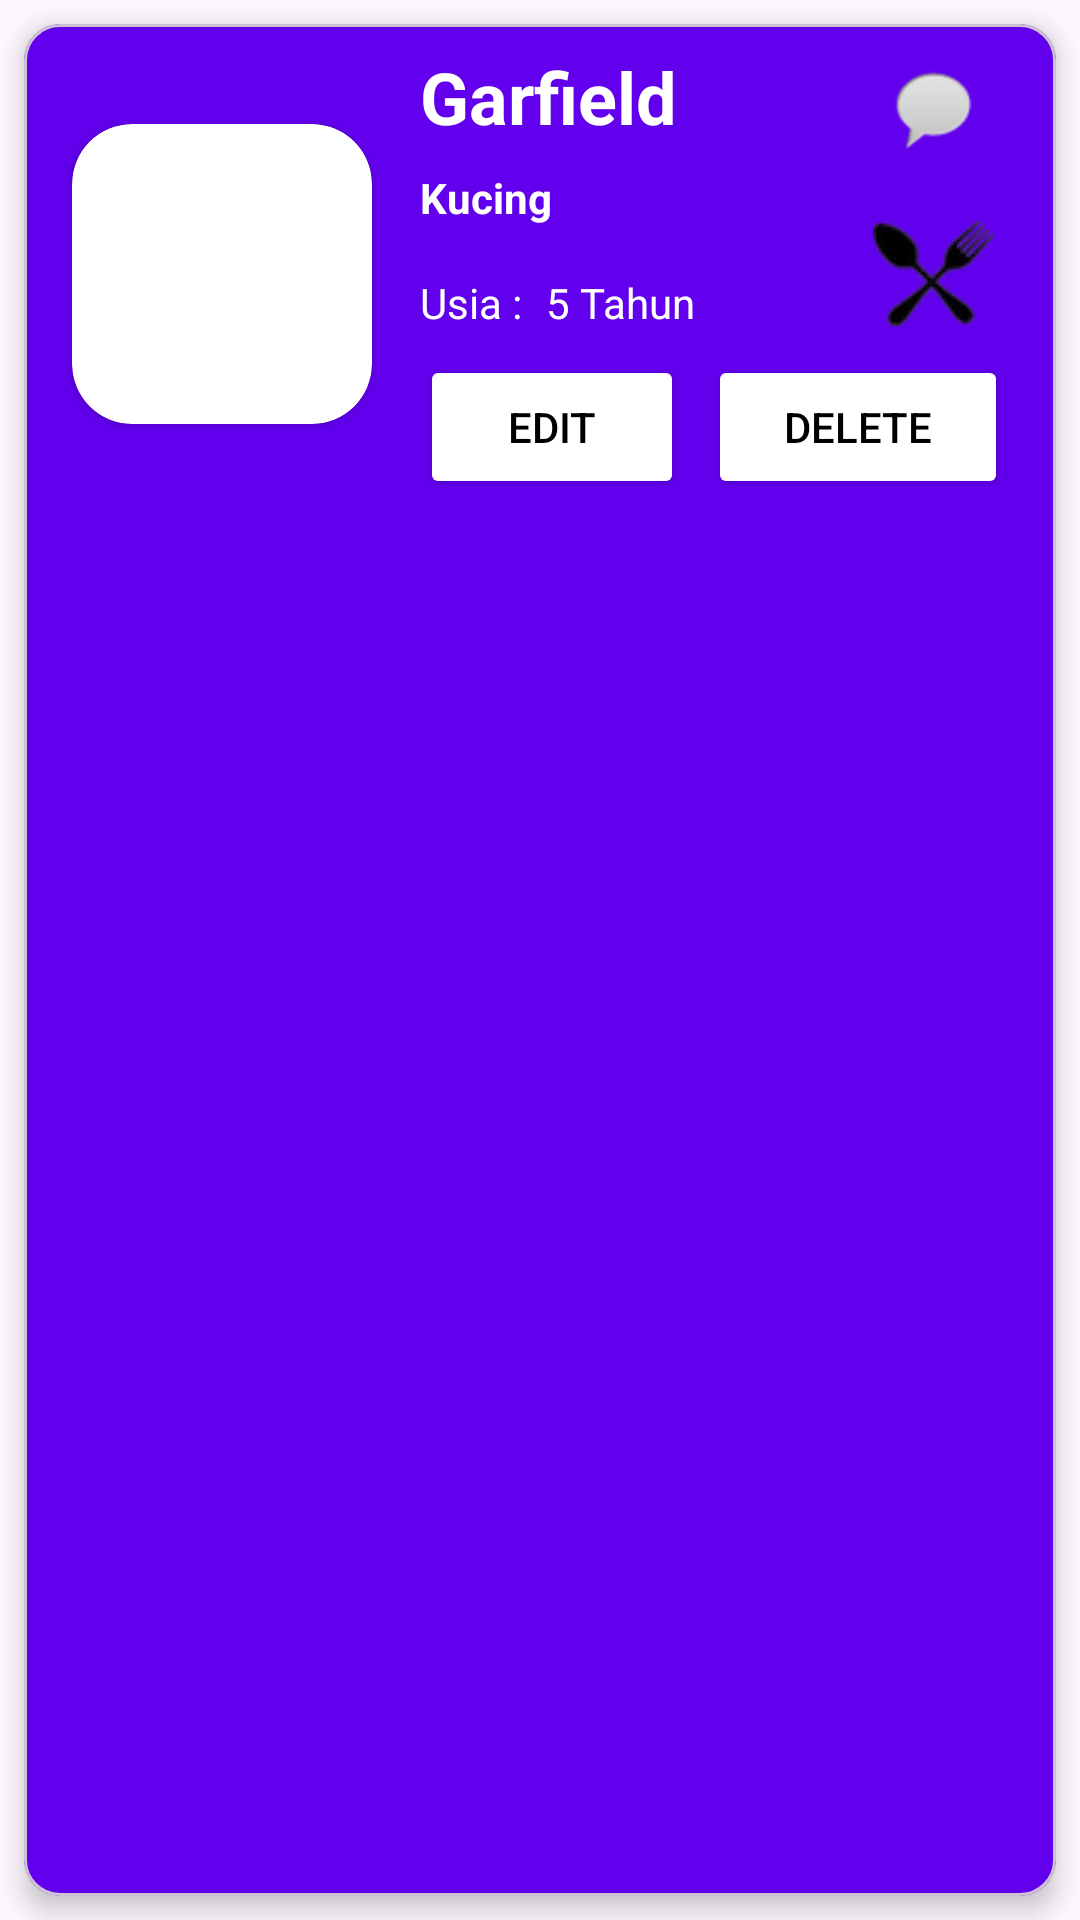

Point at icon controls on the screen. Image size 1080×1920, points as (x,y).
feed: (933,273)
sym action chat: (933,110)
